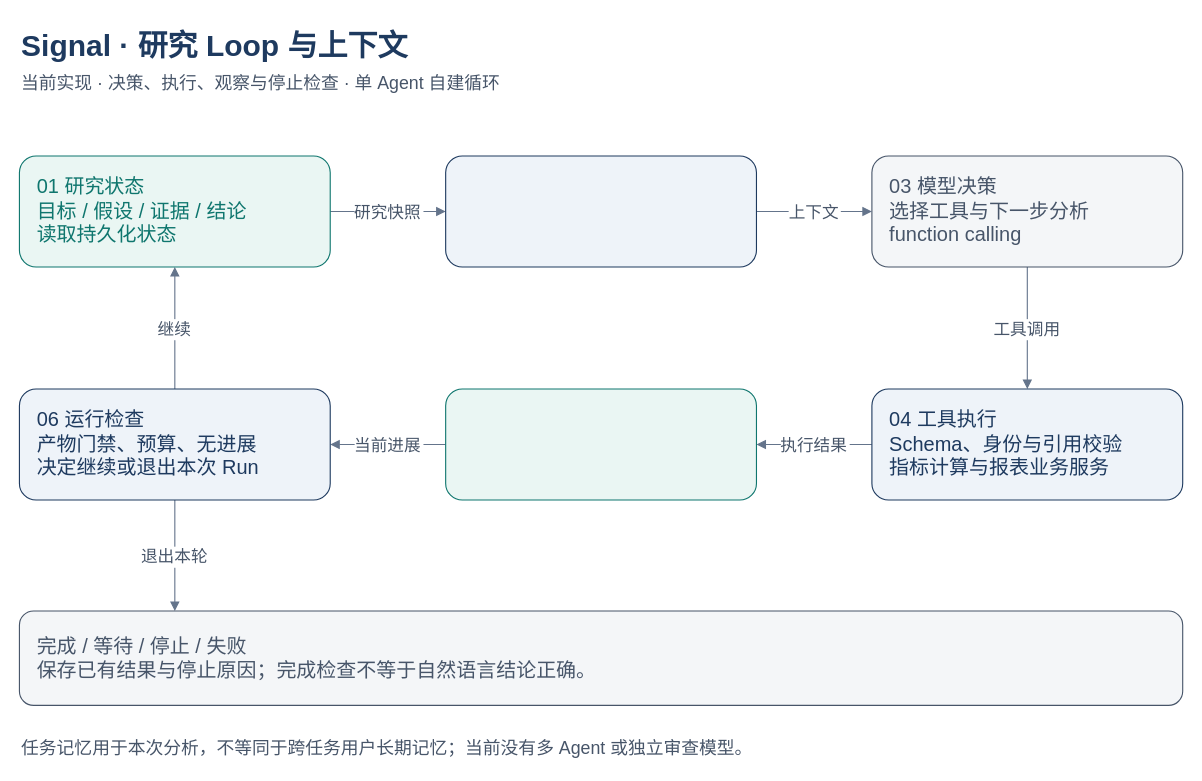
The diagram is 1202 pixels wide and 781 high, and some of its shapes have lost their labels. The box of each missing label's shape, as (x1, y1, x2, y2) in pixels:
02 ContextBuilder 状态摘要 + 最近完整消息对 完整证据按 ID 分页读取: (445, 155, 756, 267)
05 状态写入 证据、结论与报告草稿 检查点、事件、工具结果: (445, 388, 756, 500)
